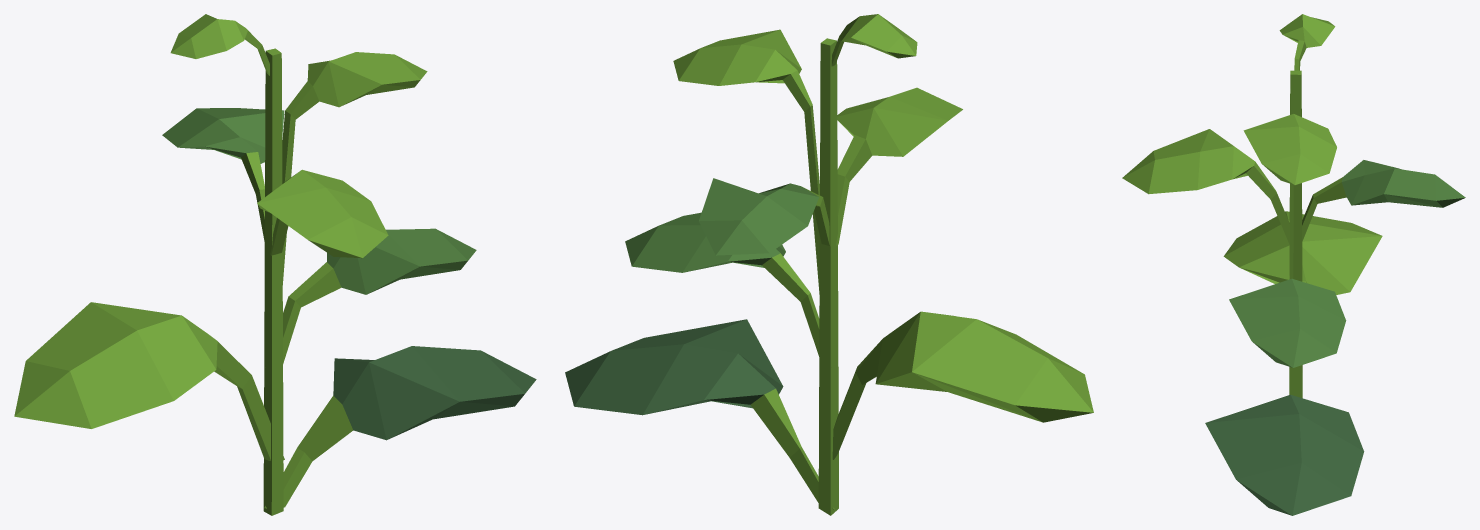
Rendered from EA_M_Env_Shrub_01c.fbx.
The picture shows the model from 3 angles, left to right: view 1: azimuth 30°, elevation 25°; view 2: azimuth 150°, elevation 25°; view 3: azimuth 270°, elevation 25°; orthographic projection. The views are drawn at different scales.
Parts seen in each view (by area): view 1: EA_M_Env_Shrub_01c_LOD0; view 2: EA_M_Env_Shrub_01c_LOD0; view 3: EA_M_Env_Shrub_01c_LOD0.
Boxes of the visible parts, bbox=[...] form: EA_M_Env_Shrub_01c_LOD0: bbox=[14, 14, 536, 515]; EA_M_Env_Shrub_01c_LOD0: bbox=[565, 14, 1093, 515]; EA_M_Env_Shrub_01c_LOD0: bbox=[1122, 14, 1465, 515].
Size of what is drawn, in the model's own units: 1.1 by 1.02 by 0.7337.
